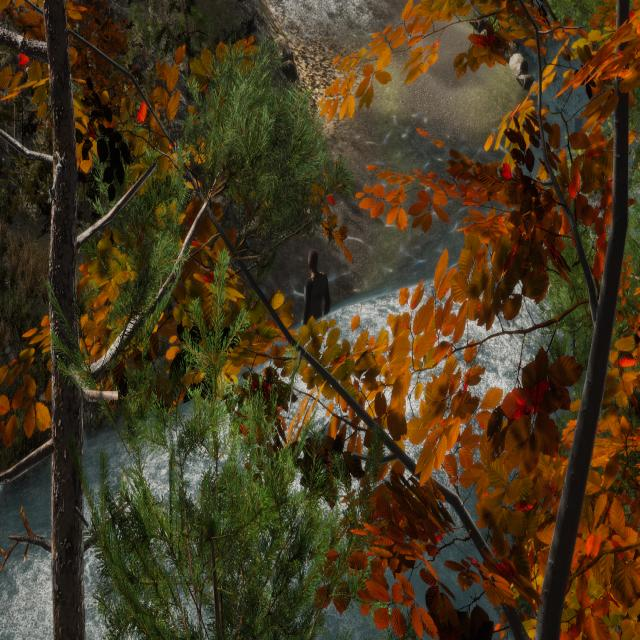Human: (294, 244, 332, 341)
